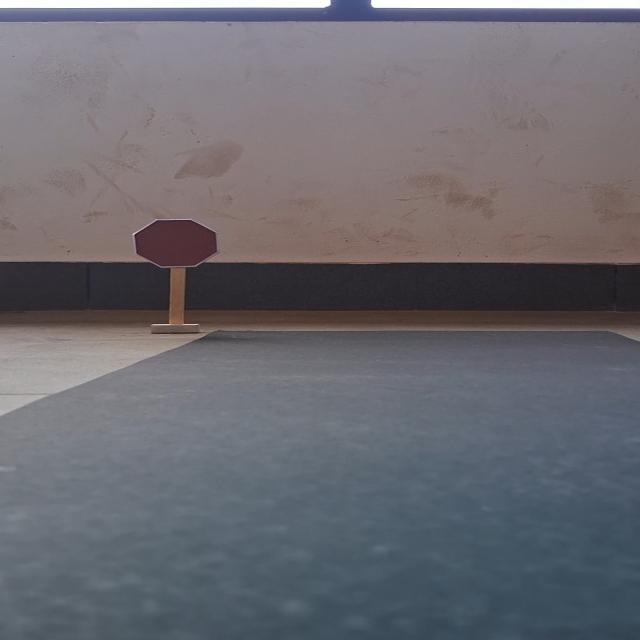Stop: (133, 218, 221, 268)
